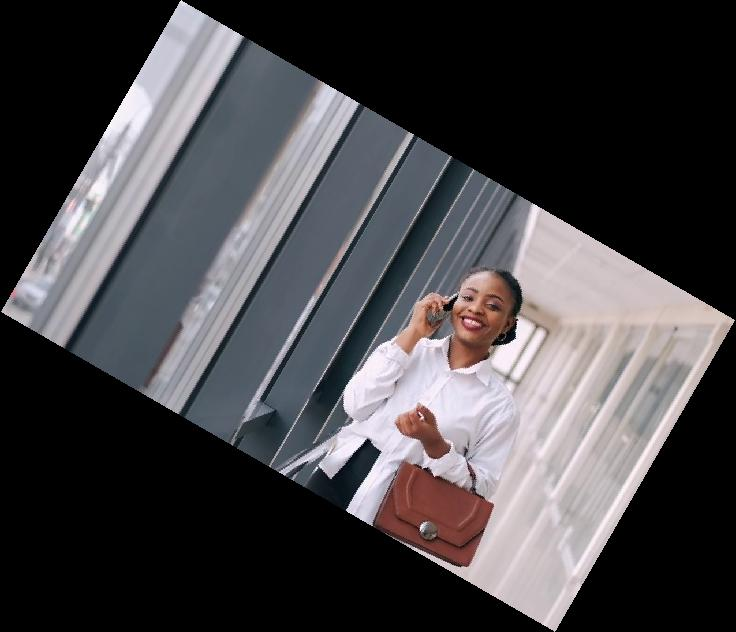phone: (439, 287, 461, 315)
